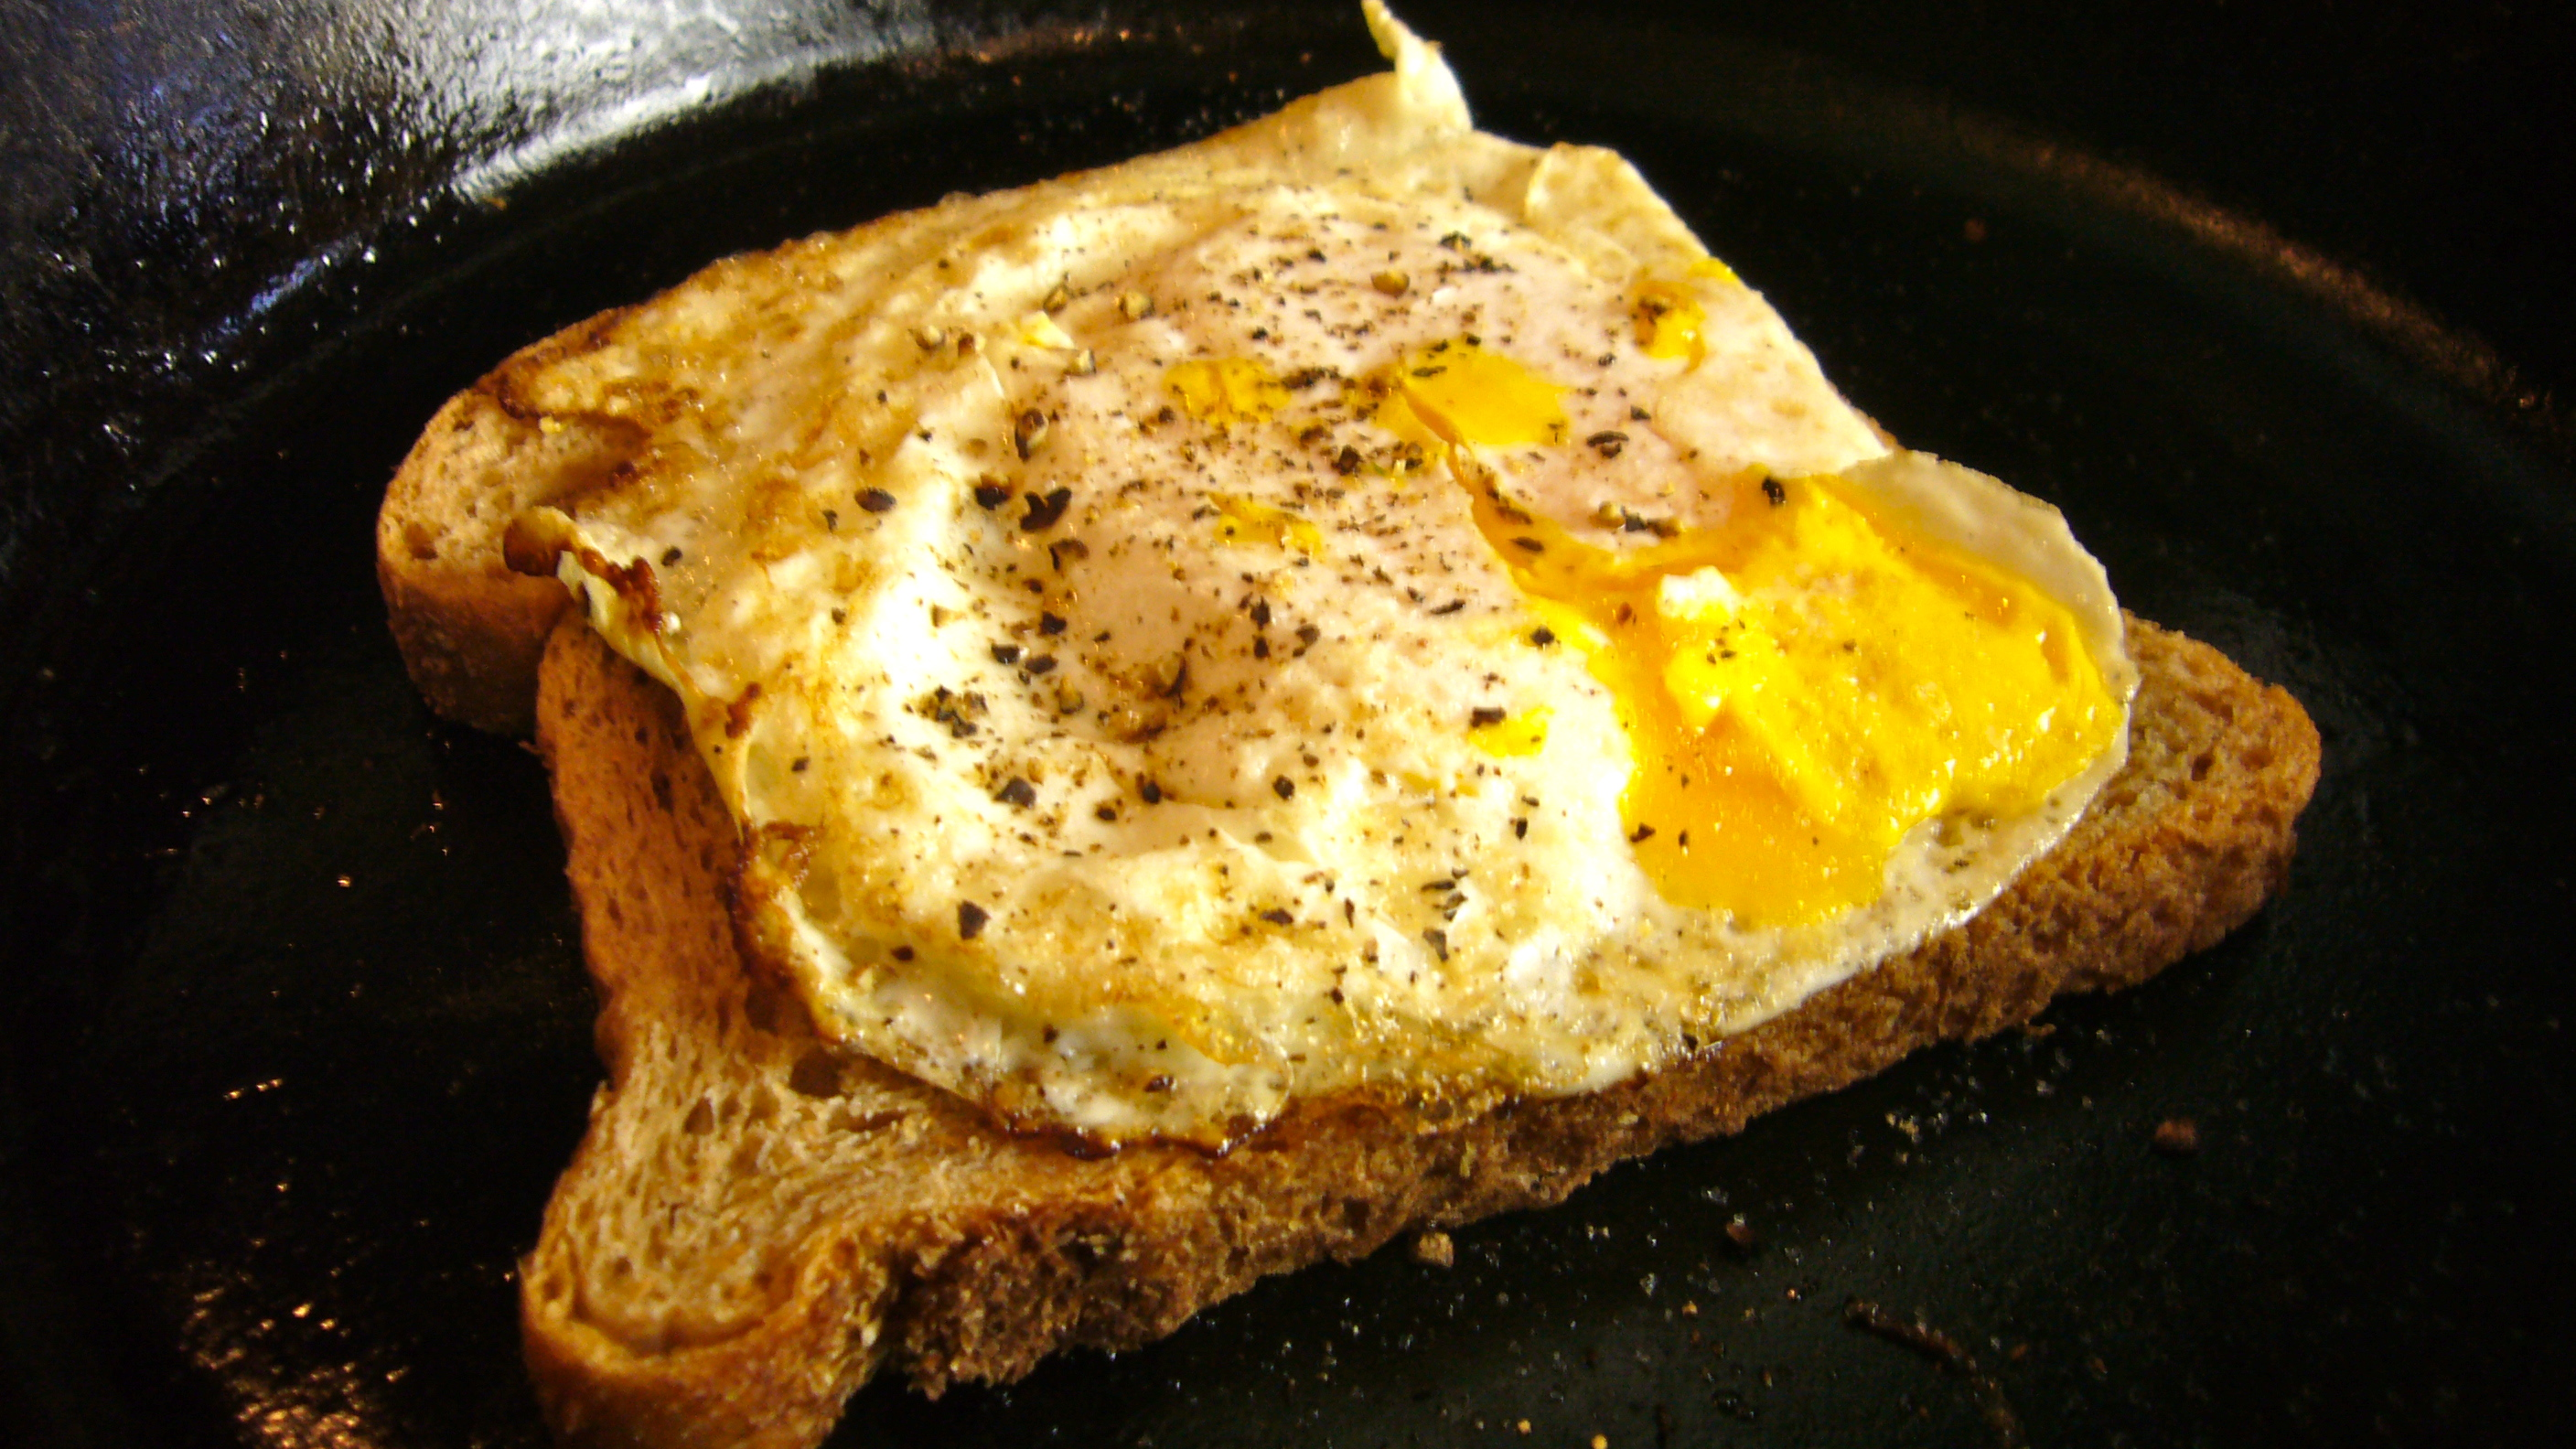fried egg: (570, 202, 1882, 985)
slice of bread: (713, 1169, 1254, 1364)
